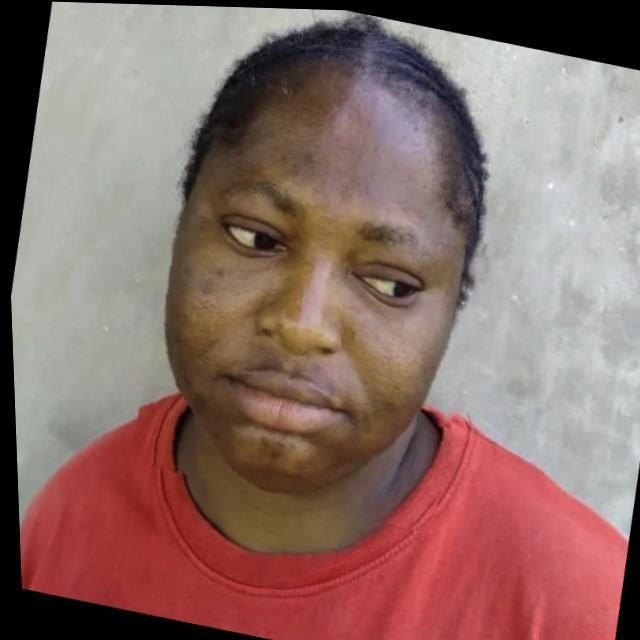sad: (114, 3, 527, 532)
